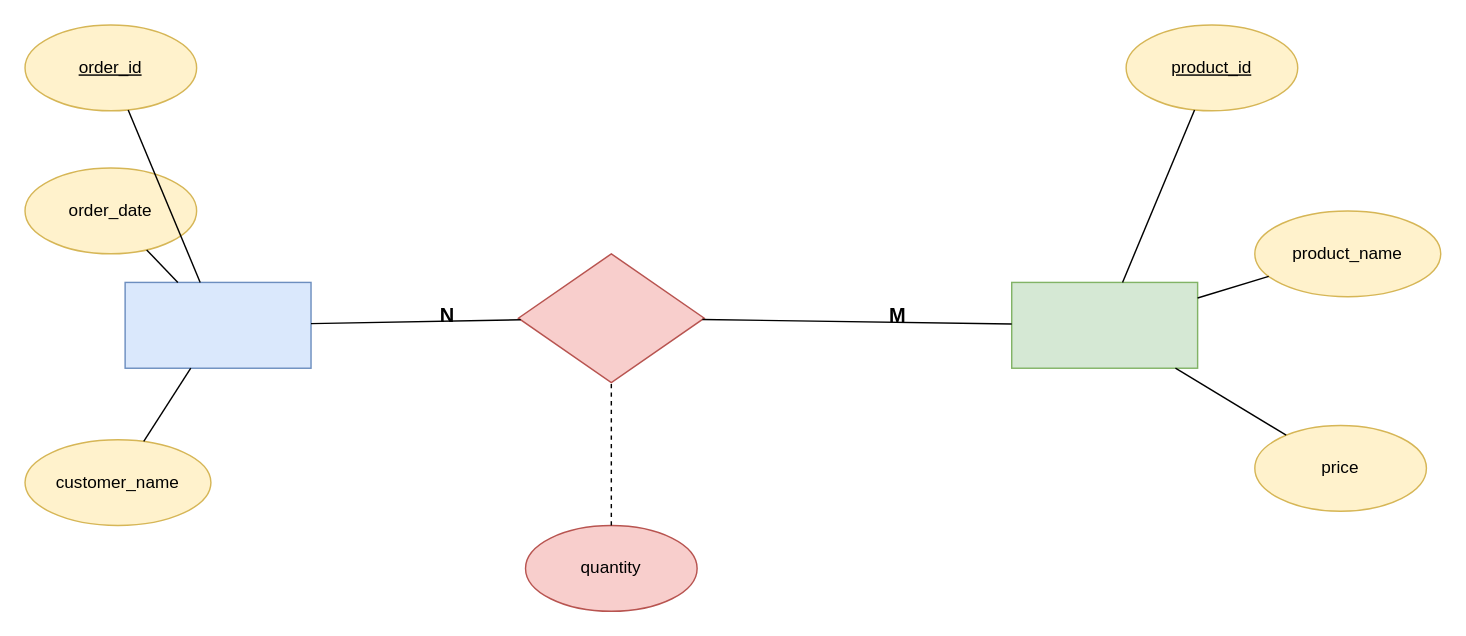
The diagram is 1466 pixels wide and 636 high, and some of its shapes have lost their labels. The shapes that lost their labels are listed below. From the top down, each one's centre as x and y in pixels, then its label:
pixel 217 324: orders
pixel 610 317: Chua
pixel 1104 324: products
